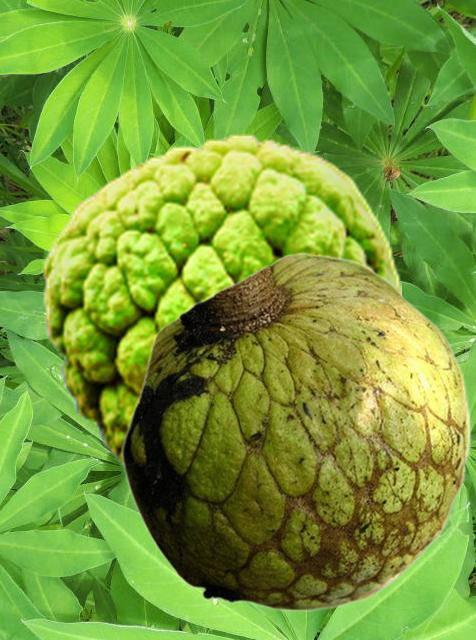atis: (120, 252, 470, 611), (41, 132, 400, 470)
